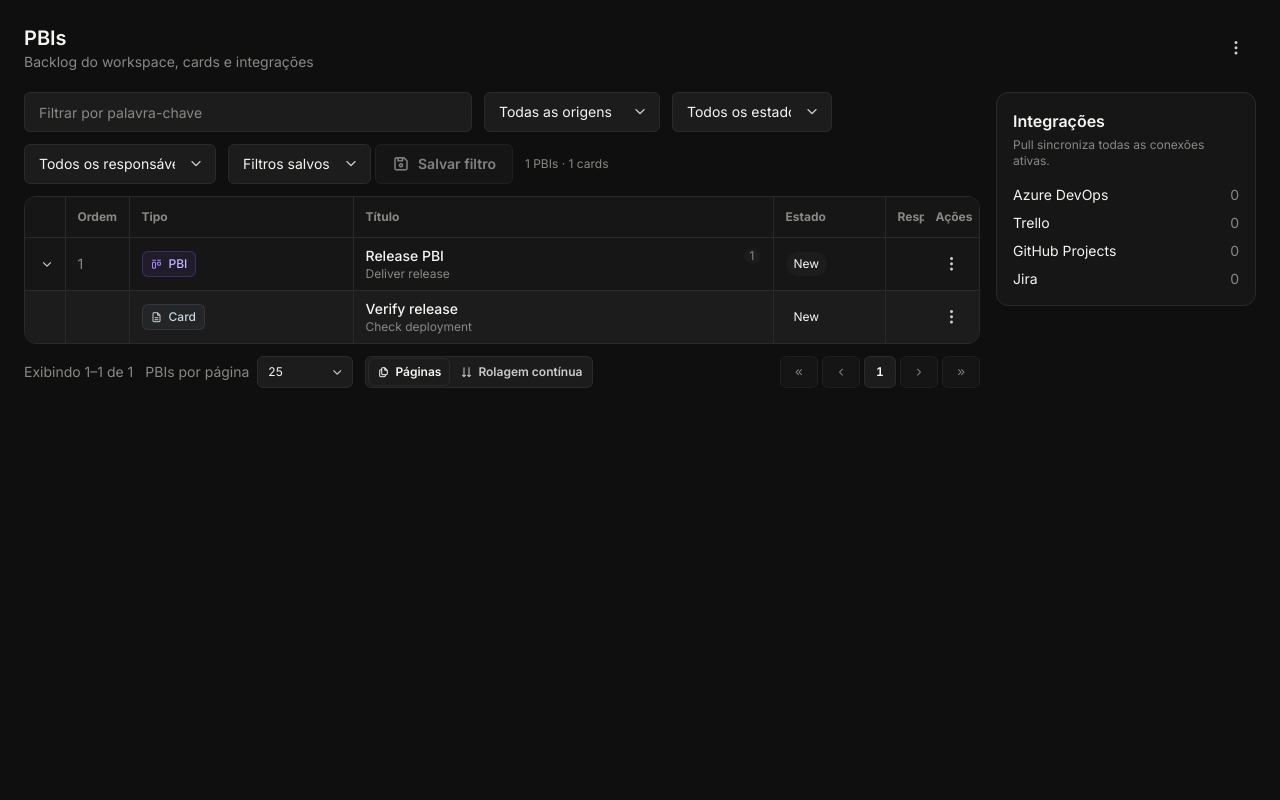
Test: PbiView coverage: loading and actions › shows action errors from Error and non-Error failures
Check: the button "Release PBI" is shown, box [366,246,736,266]
Click the button named "Ações: Release PBI" at point(952, 264), box [932,244,972,284]
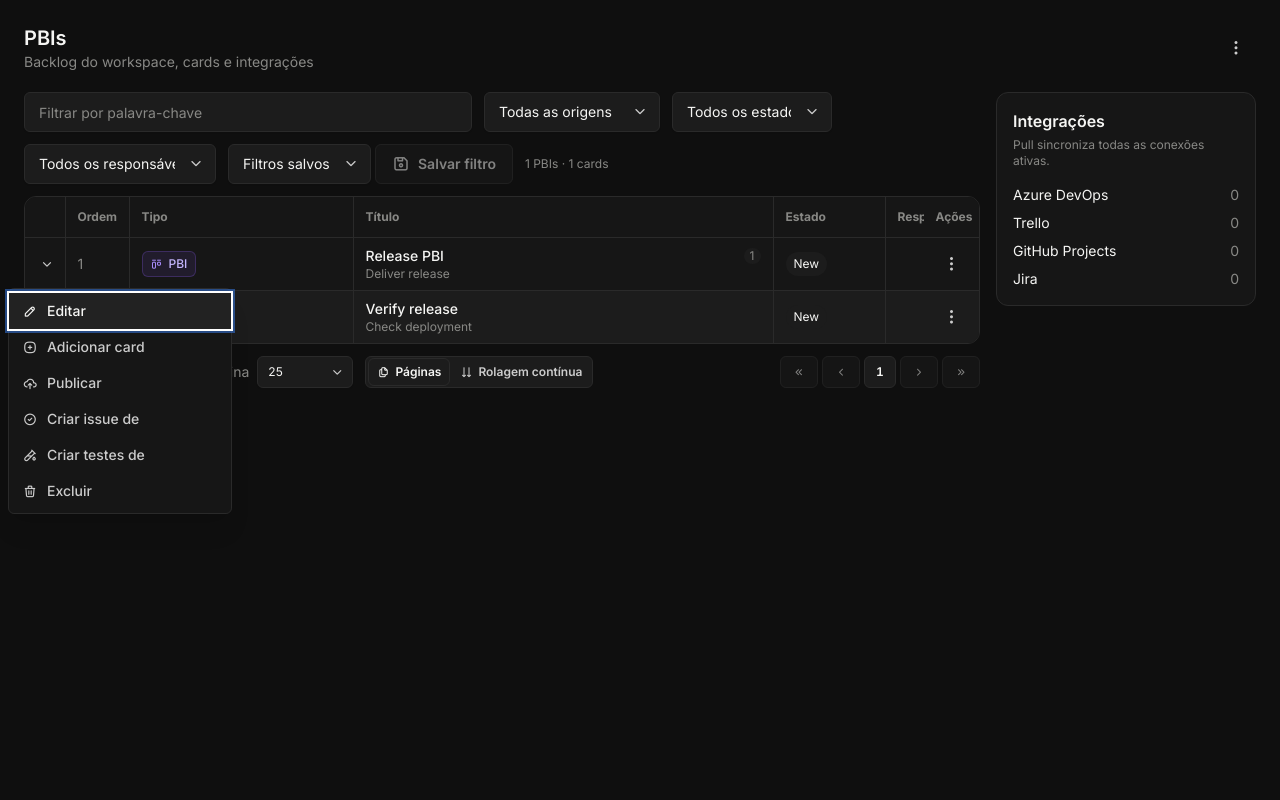
Click the menu item "Criar issue de" at point(120, 419), box [9,401,231,437]
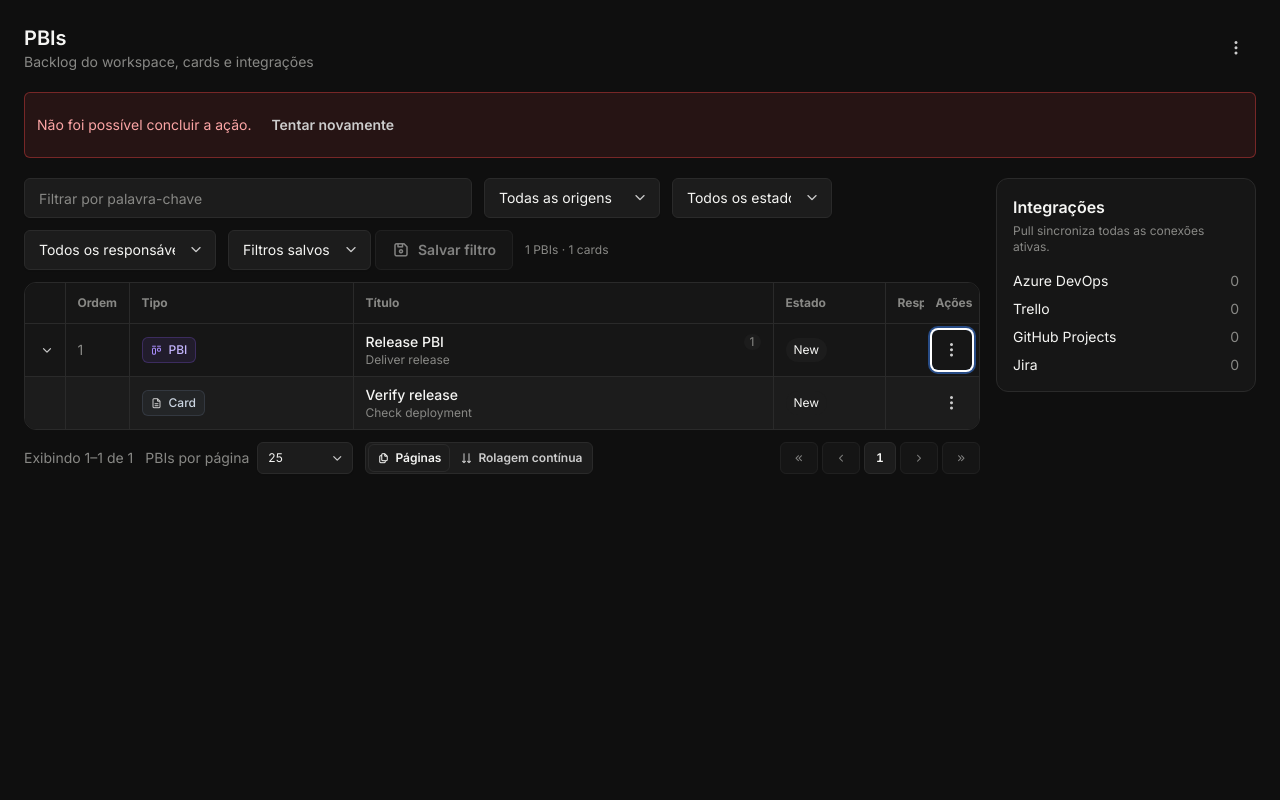
Check: the text "Não foi possível concluir a ação. Tentar novamente" is shown, box [24,92,1256,158]
Click the button named "Ações: Release PBI" at point(952, 350), box [932,330,972,370]
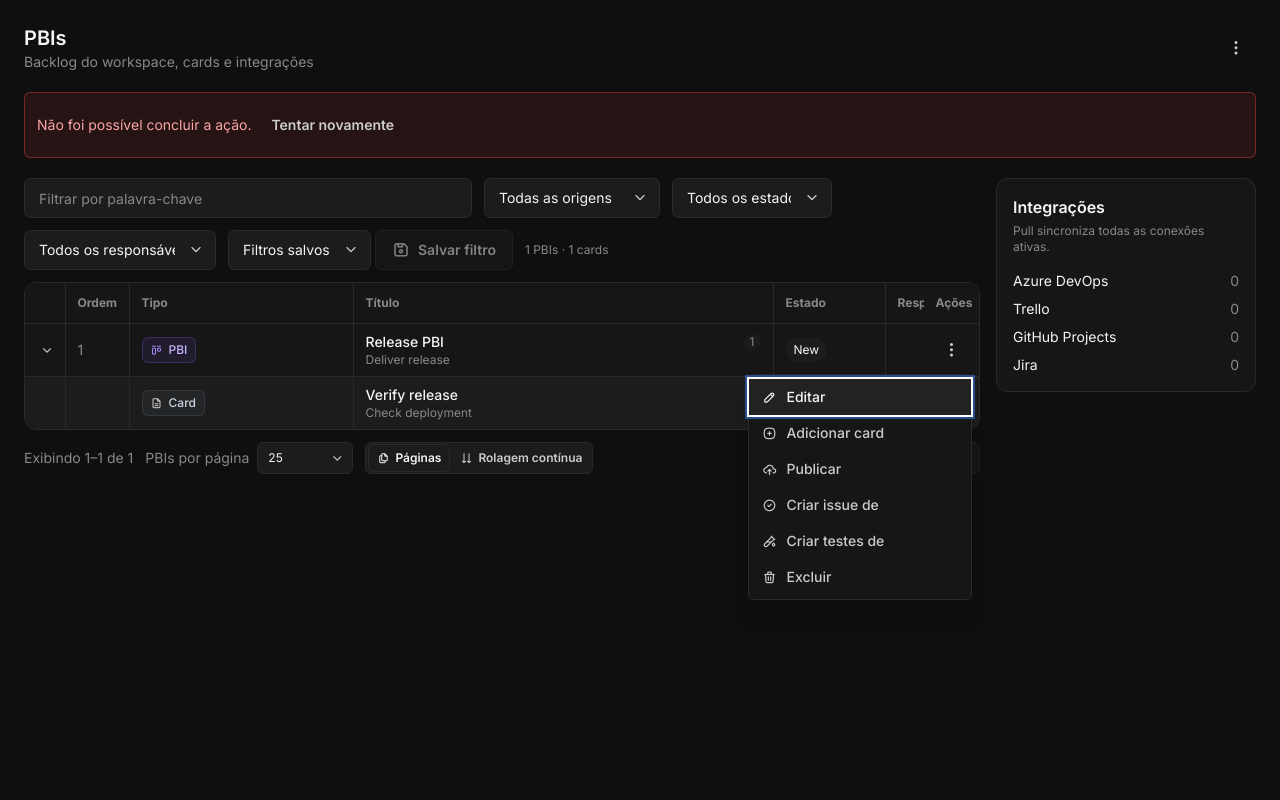
Click the menu item "Criar issue de" at point(860, 505), box [748,487,970,523]
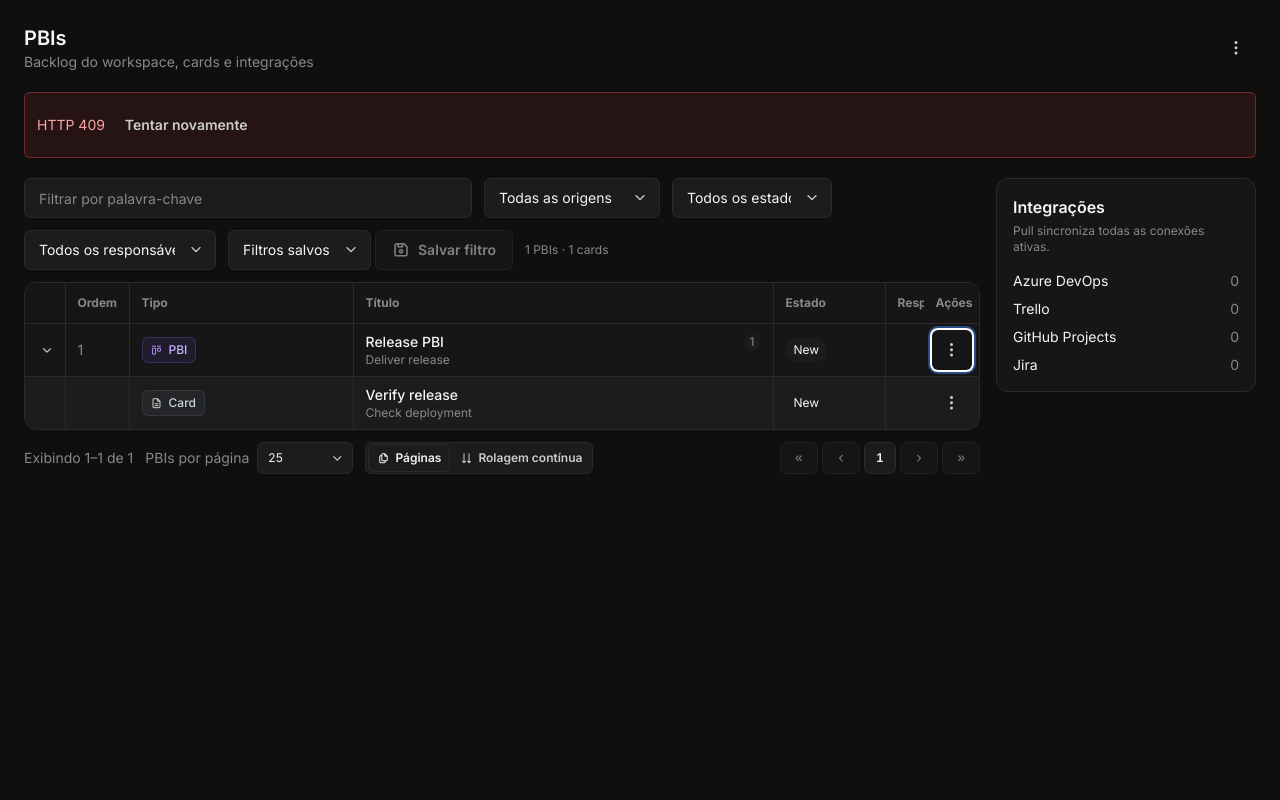
Check: the text "HTTP 409 Tentar novamente" is shown, box [24,92,1256,158]
